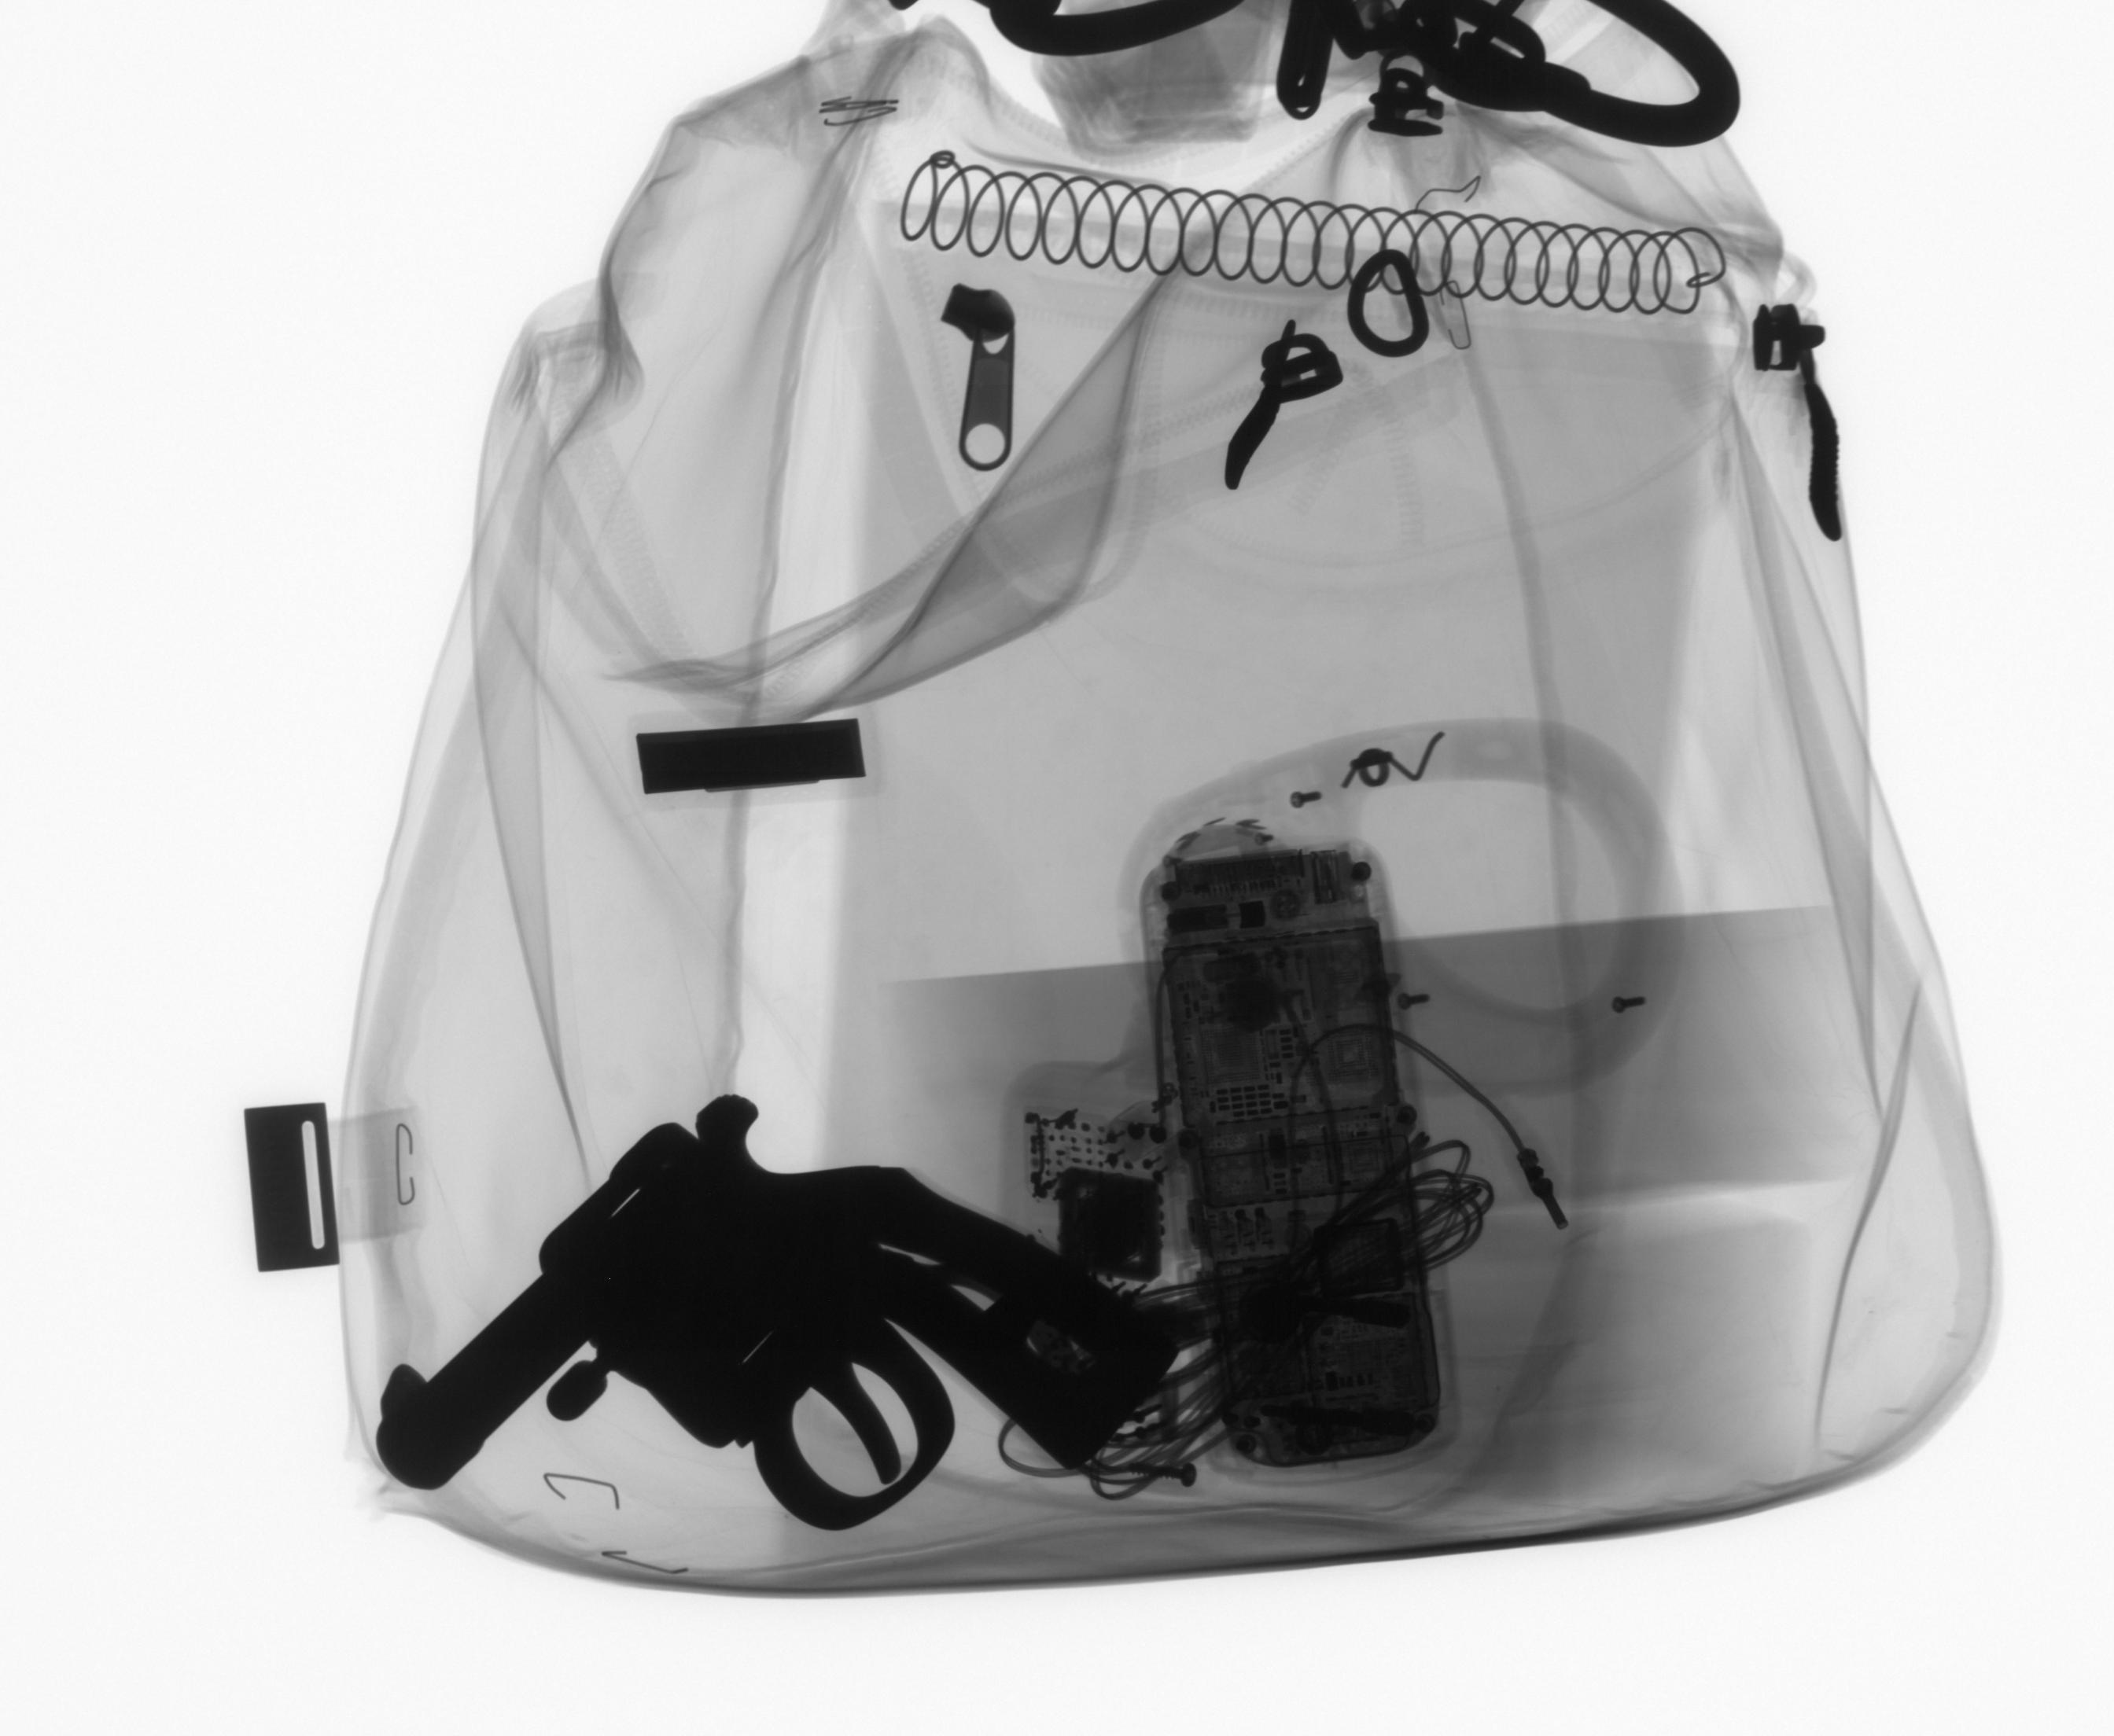Handgun: (369, 1087, 1191, 1532)
